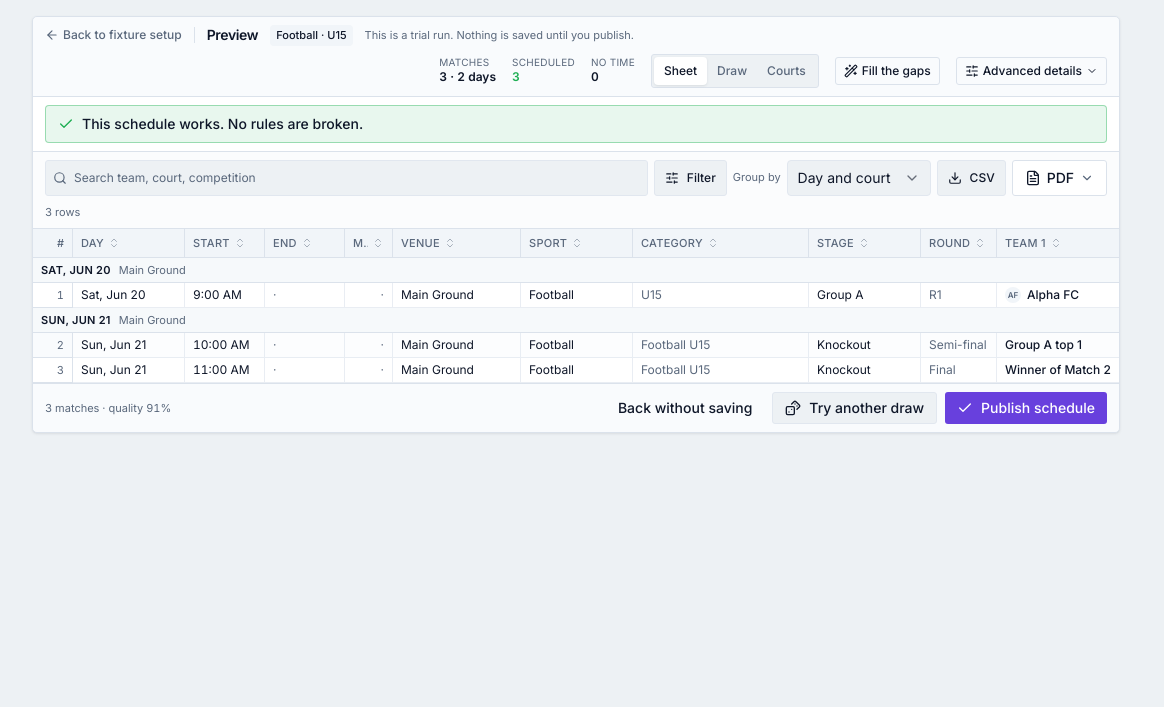
Test case: DryRunPreviewPage › splits a multi-stage competition into Group stage and Knockout tabs
Click the radio button with test id "preview-view-draw". click: (732, 70)
box: [707,56,757,84]
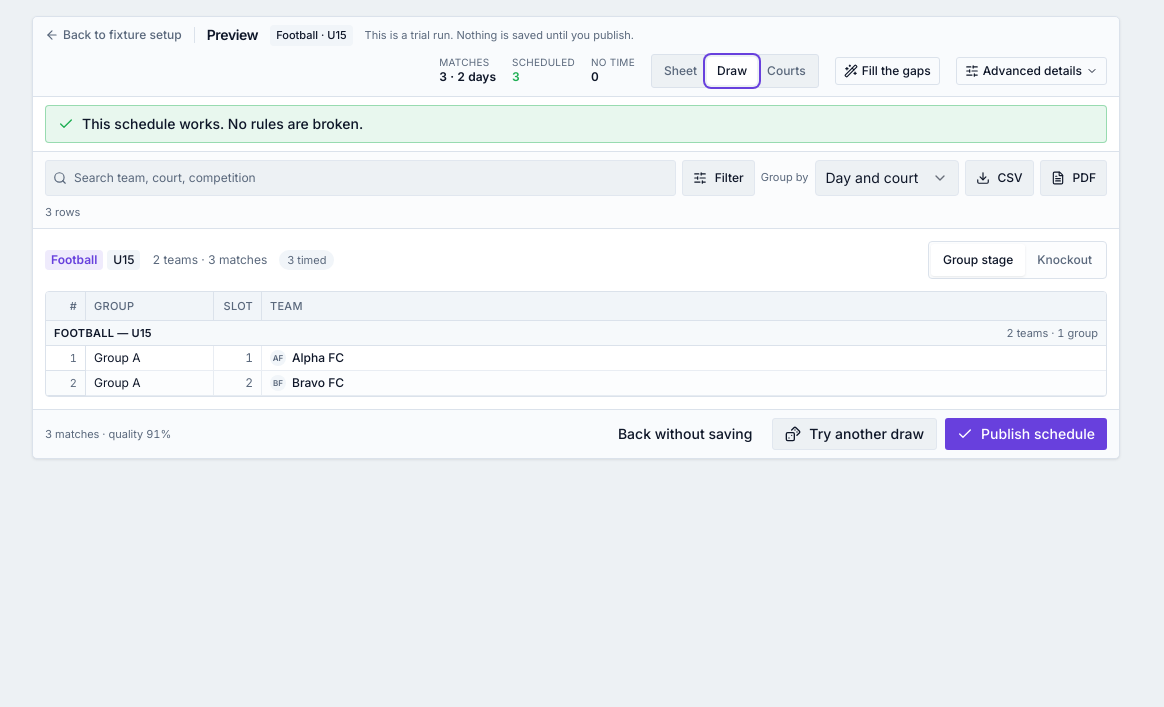
Result: the element with test id "stage-groups" is shown at [45,291,1107,397]
Result: the row with test id "draw-row-football.u15-Group A-1" shows "Alpha FC" at [292,350,344,365]
# Knockout tab: the bracket with its placeholder slots.
Click the radio button with test id "stage-tab-knockout". click: (1065, 260)
box: [1025,244,1104,276]
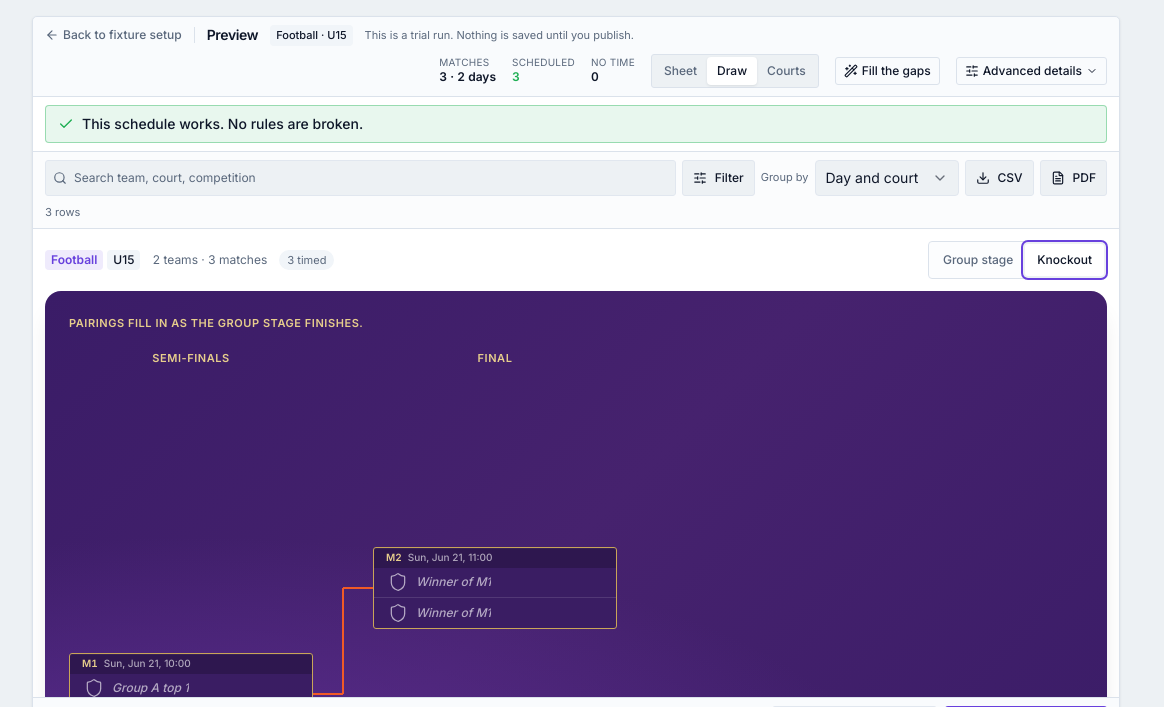
Result: the element with test id "preview-bracket" is shown at [45,291,1107,697]
Result: the text "Group A top 1" is shown at [112,680,189,696]
Result: the element with test id "stage-groups" is gone
